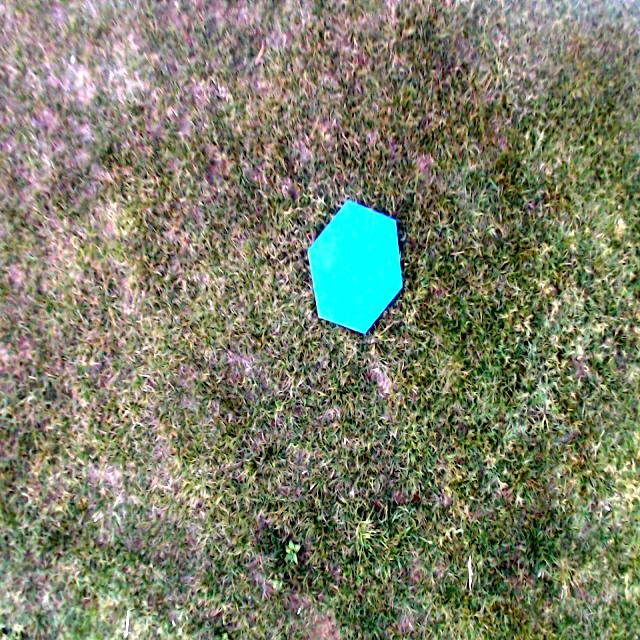blue_hexagon: (307, 200, 403, 336)
